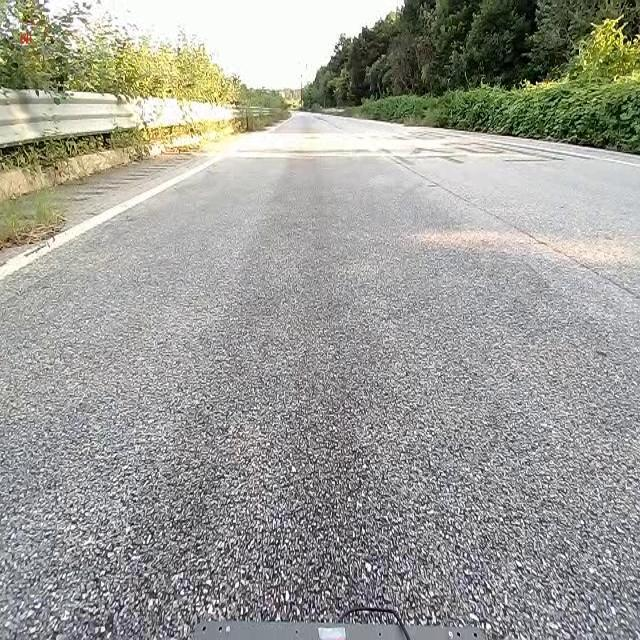Lane: (0, 144, 235, 279), (0, 153, 229, 285)
